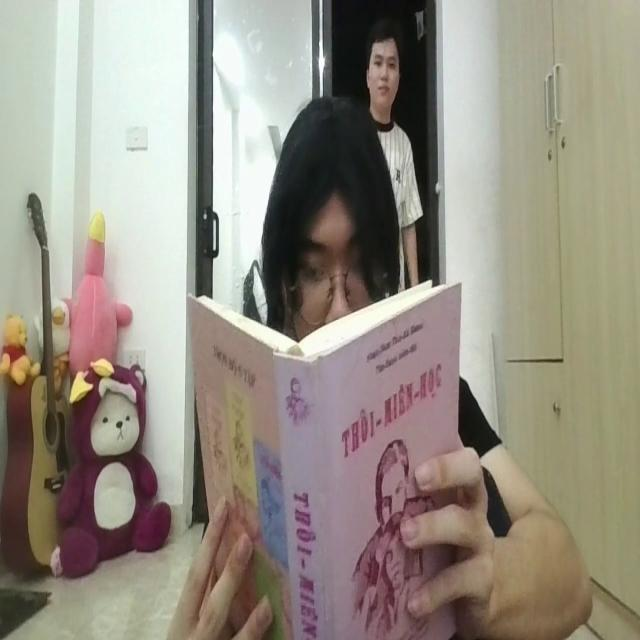book: (186, 281, 463, 640)
extra_person: (370, 32, 424, 284)
student: (257, 96, 400, 332)
